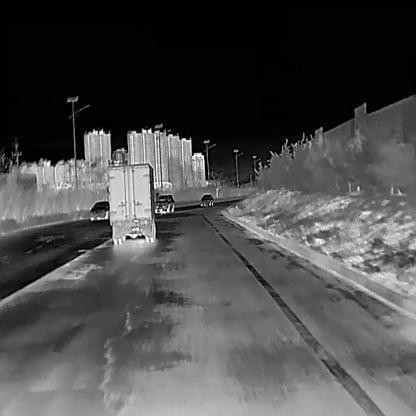car: (106, 162, 159, 244), (154, 193, 175, 212), (89, 200, 110, 219), (199, 194, 213, 206)
